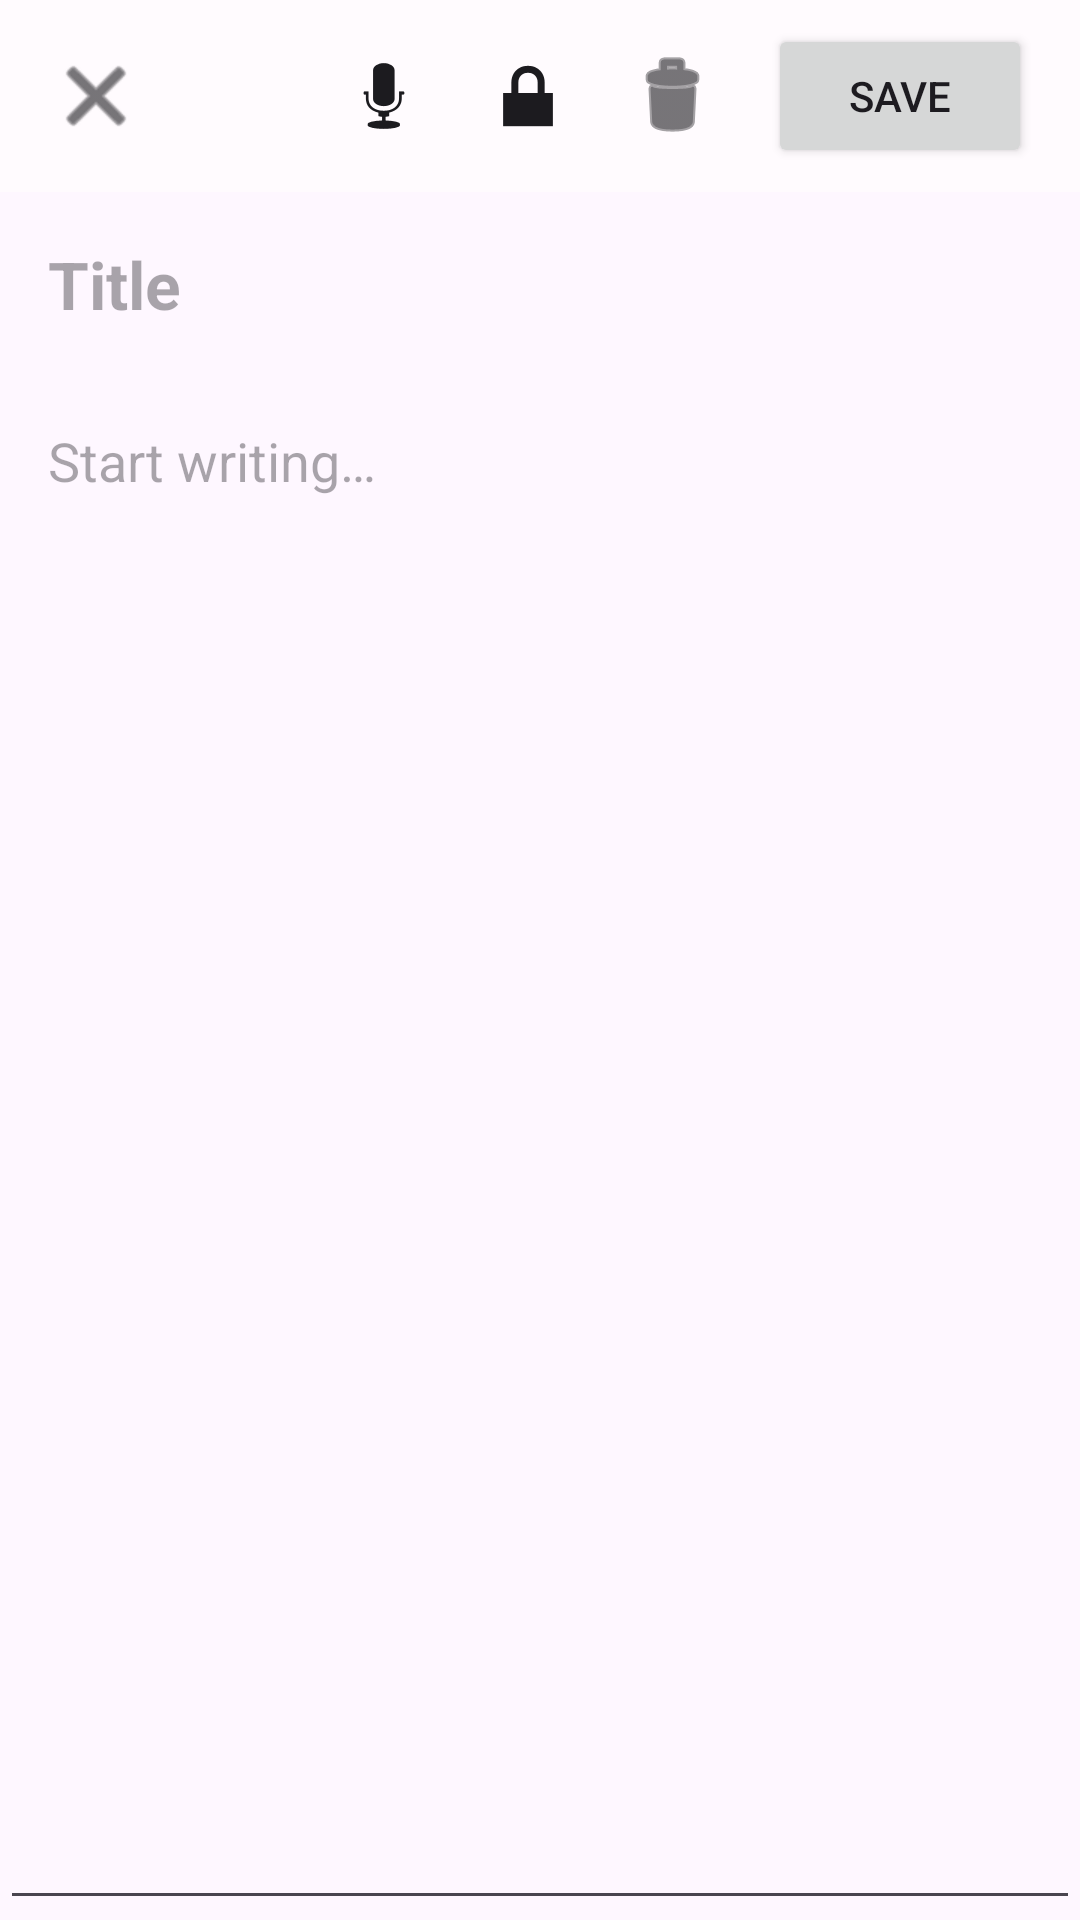

Named icons in this screenshot (1080x1920) and their centers, [x,y]:
Delete note: [672,94]
Lock note: [528,96]
Speak to add text: [384,96]
